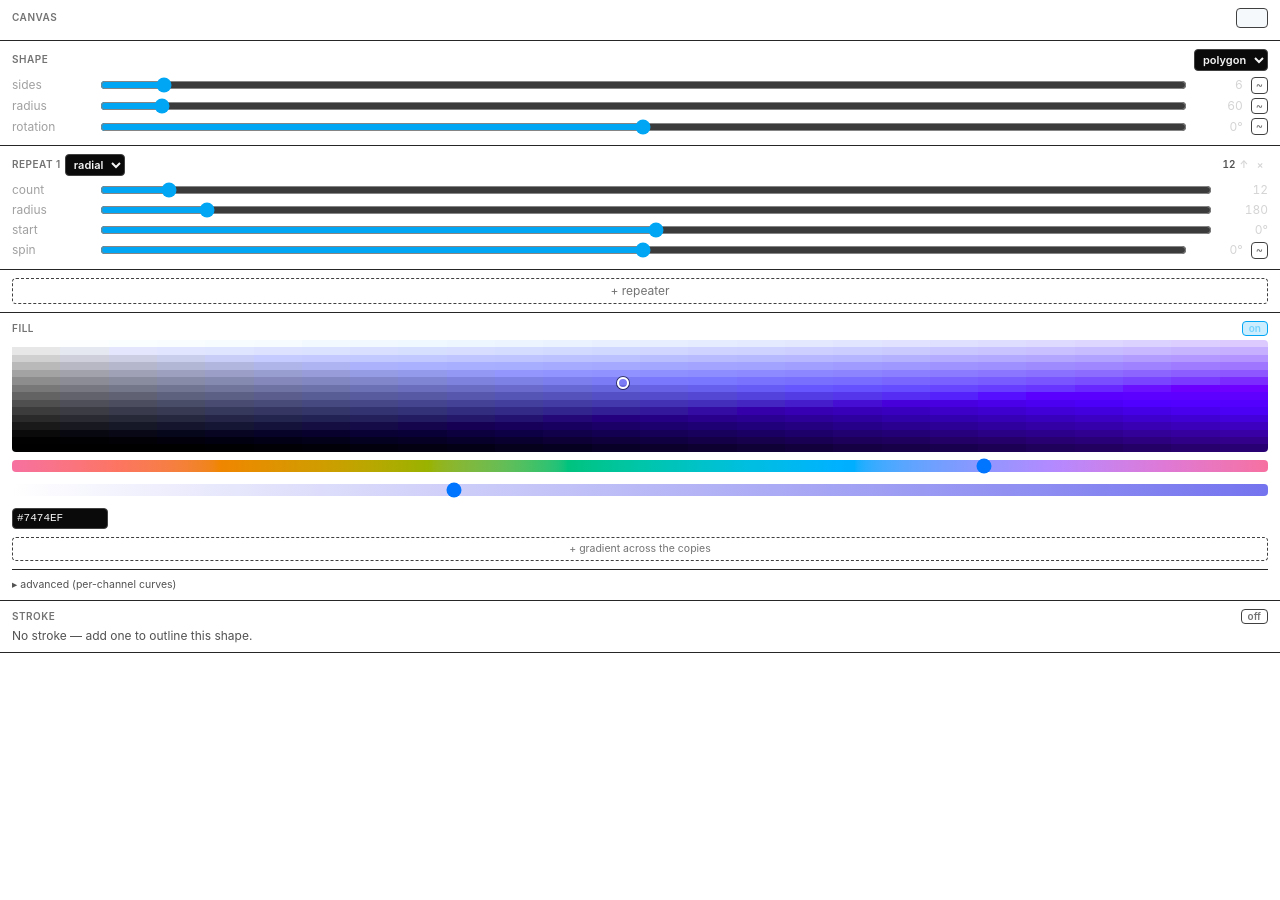
Test: Inspector › the repeater chain › shows the first link’s own count and later links as a product
Click the button with test id "add-repeater": x=640, y=291 [12, 278, 1268, 304]
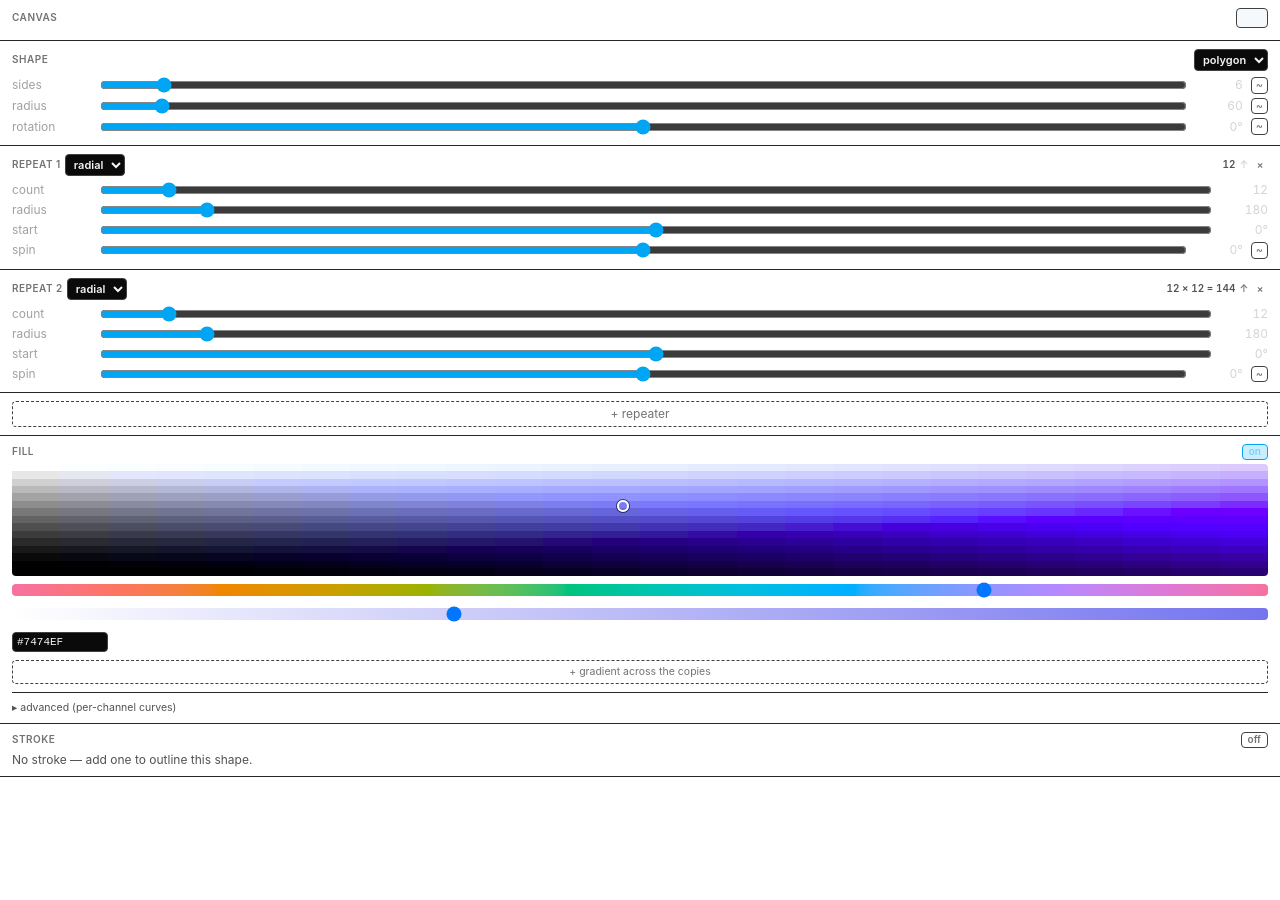
Select "grid" in the dropdown named "repeat 2 type": x=97, y=289 [67, 278, 127, 300]
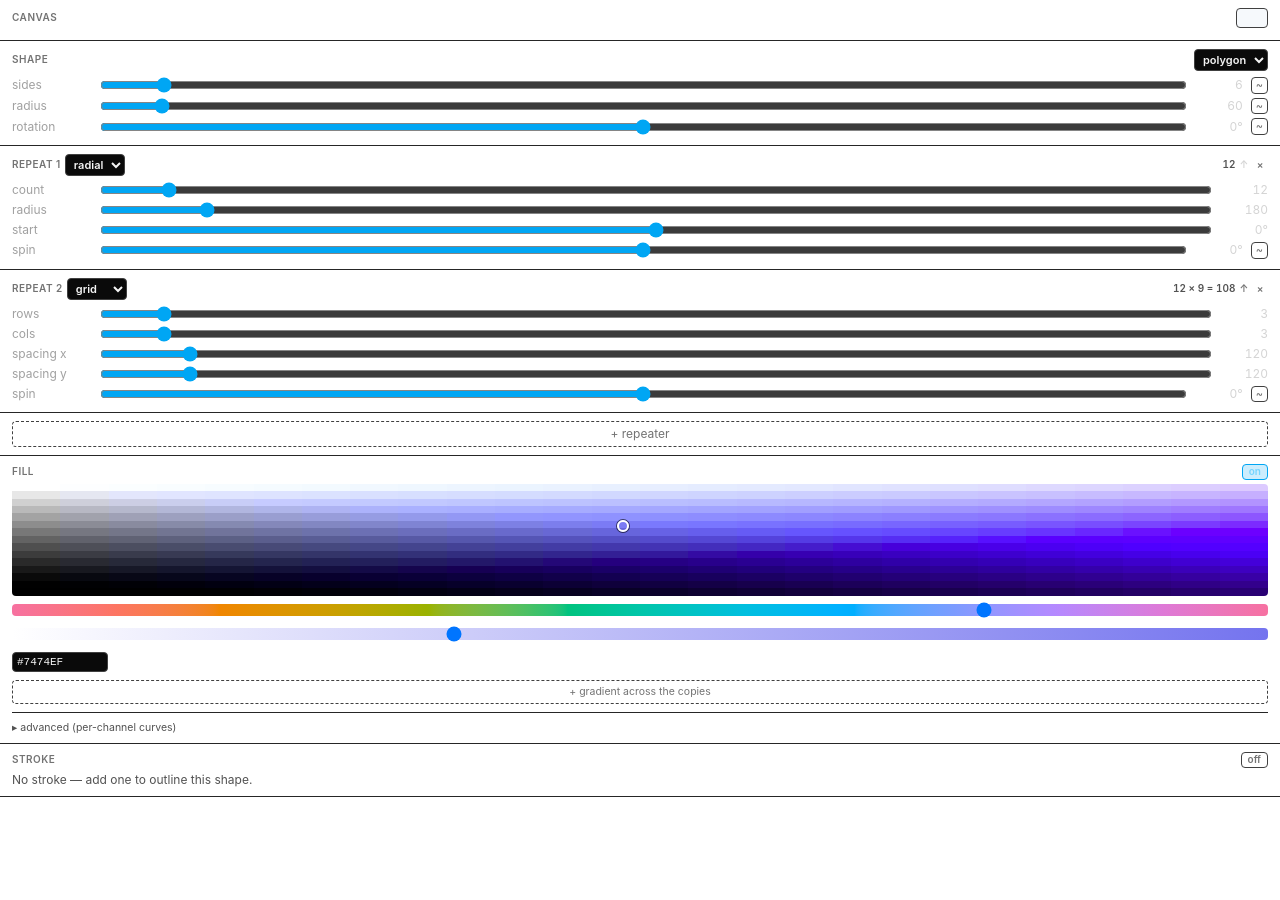
Expected: the text with test id "repeater-count-0" reads "12", [1222, 158, 1236, 170]
Expected: the text with test id "repeater-count-1" reads "12 × 9 = 108", [1173, 282, 1235, 294]
